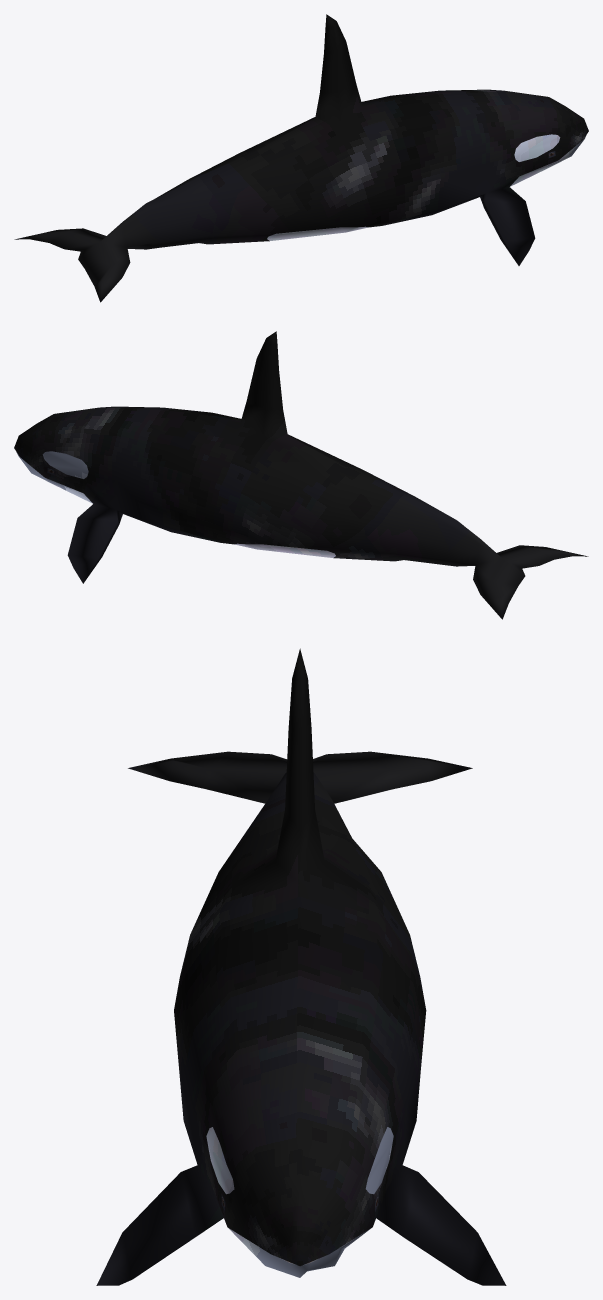
Rendered from Orca.obj.
3 views of the same model, one above another, from view 1: azimuth 30°, elevation 25°; view 2: azimuth 150°, elevation 25°; view 3: azimuth 270°, elevation 25° (orthographic). The views are drawn at different scales.
Bounding box in the file's own units: 373 × 167 × 124.
Materials: 4 (4 with a texture image).
